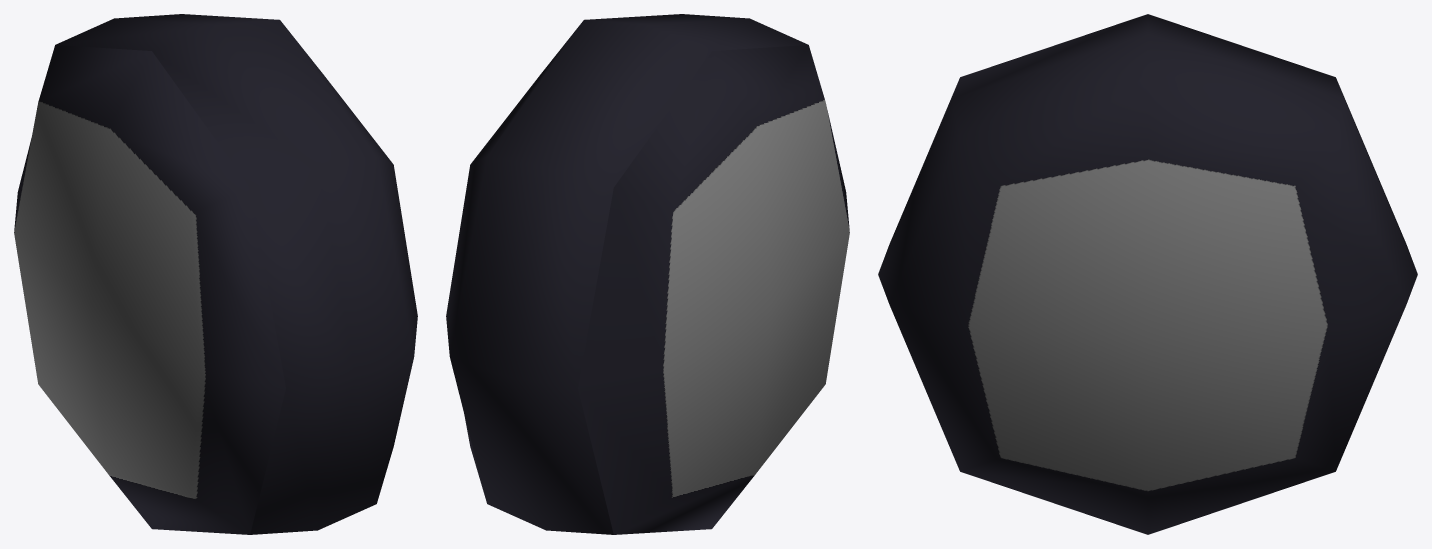
File: Wheel.obj
The picture shows the model from 3 angles, left to right: view 1: azimuth 30°, elevation 25°; view 2: azimuth 150°, elevation 25°; view 3: azimuth 270°, elevation 25°; orthographic projection. The views are drawn at different scales.
Visible parts, largest first — view 1: Plane.004_Plane.003; view 2: Plane.004_Plane.003; view 3: Plane.004_Plane.003.
Boxes of the visible parts, x1=… form: Plane.004_Plane.003: x1=14, y1=14, x2=417, y2=534; Plane.004_Plane.003: x1=446, y1=14, x2=849, y2=534; Plane.004_Plane.003: x1=878, y1=14, x2=1417, y2=534.
Bounding box in the file's own units: 0.5308 × 1.02 × 1.04.
